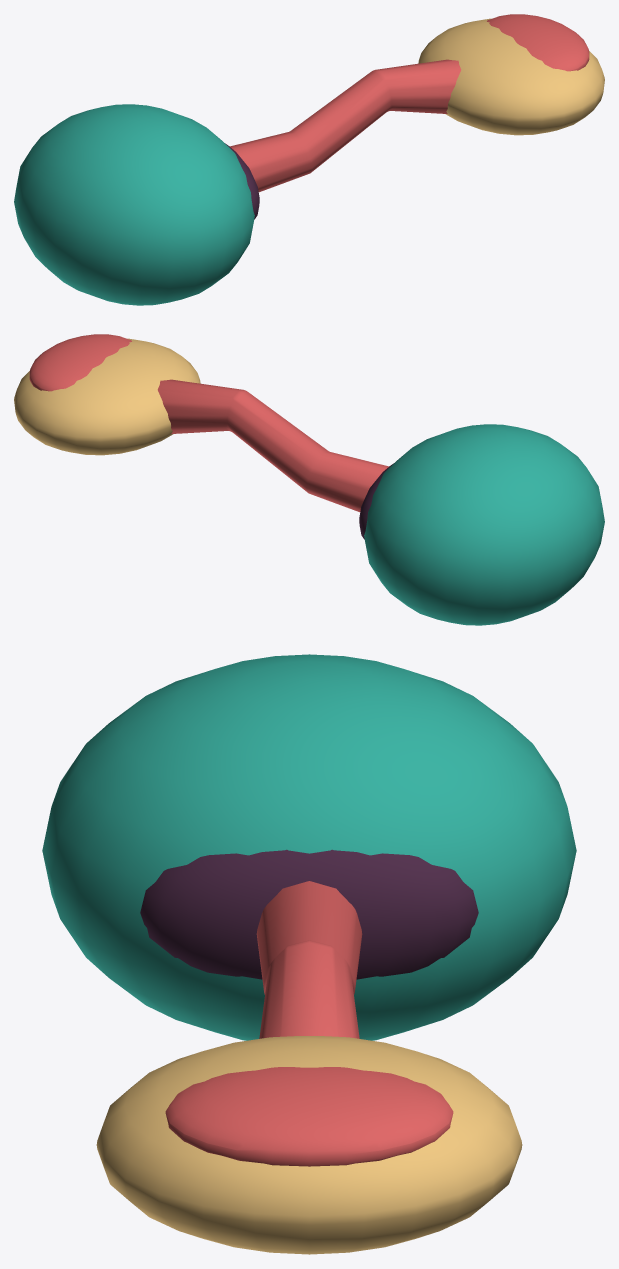
Rendered from tongue_spring.glb.
3 renders of one model, top to bottom at view 1: azimuth 30°, elevation 25°; view 2: azimuth 150°, elevation 25°; view 3: azimuth 270°, elevation 25°, orthographic. The views are drawn at different scales.
Visible parts, largest first — view 1: tongue_spring; view 2: tongue_spring; view 3: tongue_spring.
Part boxes in pixels (x1,y1,x2,y2): tongue_spring: (14,14,604,305); tongue_spring: (14,334,604,625); tongue_spring: (42,654,576,1254).
Bounding box in the file's own units: 1.92 × 0.56 × 0.8.
